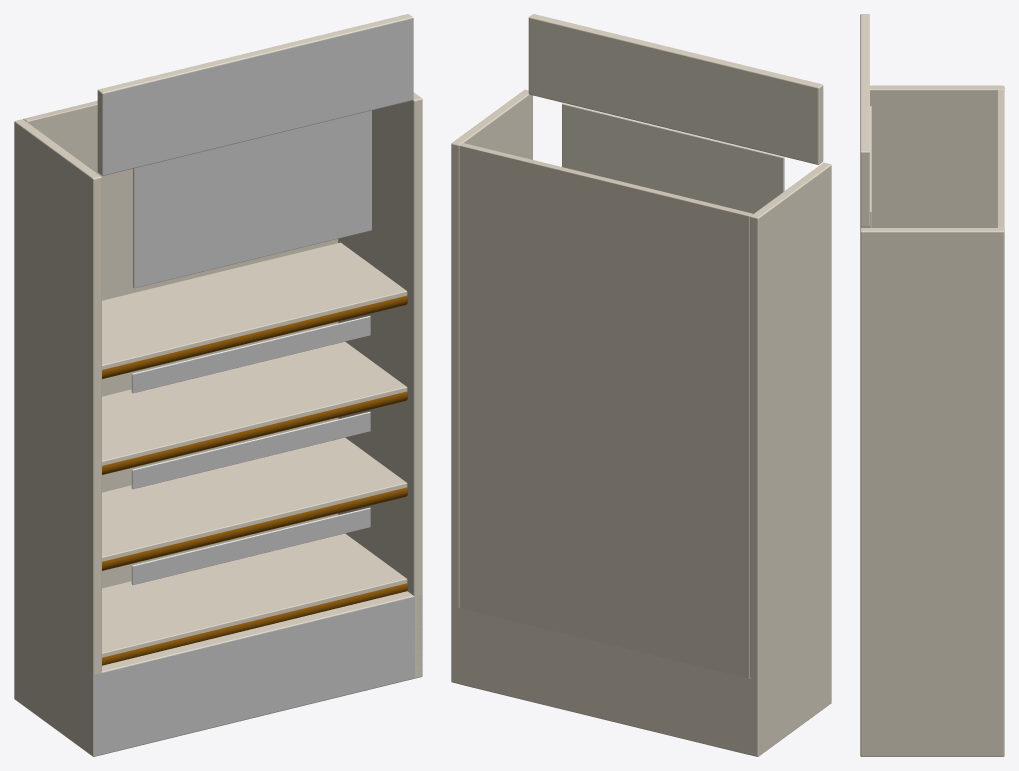
Rendered from display_rack.obj.
The picture shows the model from 3 angles, left to right: view 1: azimuth 30°, elevation 25°; view 2: azimuth 150°, elevation 25°; view 3: azimuth 270°, elevation 25°; orthographic projection. The views are drawn at different scales.
Visible parts, largest first — view 1: carcass.side_1, base.plinth, panel.graphic, carcass.header, carcass.side_2, shelf.deck_4, shelf.deck_2, shelf.deck_1, shelf.deck_3, carcass.back, shelf.talker_4, shelf.talker_3 (+5 smaller); view 2: carcass.back, carcass.side_1, base.plinth, carcass.header, panel.graphic, carcass.side_2; view 3: carcass.side_2, carcass.side_1, base.plinth, carcass.header, carcass.back.
Boxes of the visible parts, x1,y1,x2,y2 form: carcass.side_1: (14, 119, 101, 756); base.plinth: (14, 591, 422, 756); panel.graphic: (133, 110, 371, 288); carcass.header: (97, 14, 413, 175); carcass.side_2: (338, 92, 422, 678); shelf.deck_4: (102, 242, 407, 369); shelf.deck_2: (102, 437, 407, 561); shelf.deck_1: (102, 533, 407, 657); shelf.deck_3: (102, 341, 407, 465); carcass.back: (23, 100, 338, 588); shelf.talker_4: (131, 316, 370, 393); shelf.talker_3: (131, 411, 370, 489); carcass.back: (459, 143, 752, 754); carcass.side_1: (750, 162, 831, 756); base.plinth: (451, 606, 831, 756); carcass.header: (528, 14, 823, 164); panel.graphic: (562, 103, 784, 213); carcass.side_2: (451, 89, 532, 682); carcass.side_2: (860, 228, 1004, 756); carcass.side_1: (860, 85, 1004, 228); base.plinth: (860, 682, 1004, 756); carcass.header: (860, 14, 869, 227); carcass.back: (997, 89, 1004, 228).
Size of the model in its own units: 0.9144 by 1.75 by 0.381.
